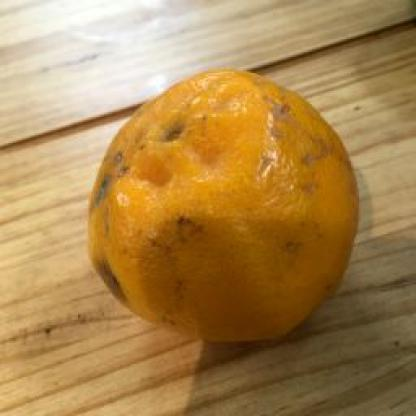orange_rotten: (80, 61, 358, 350)
